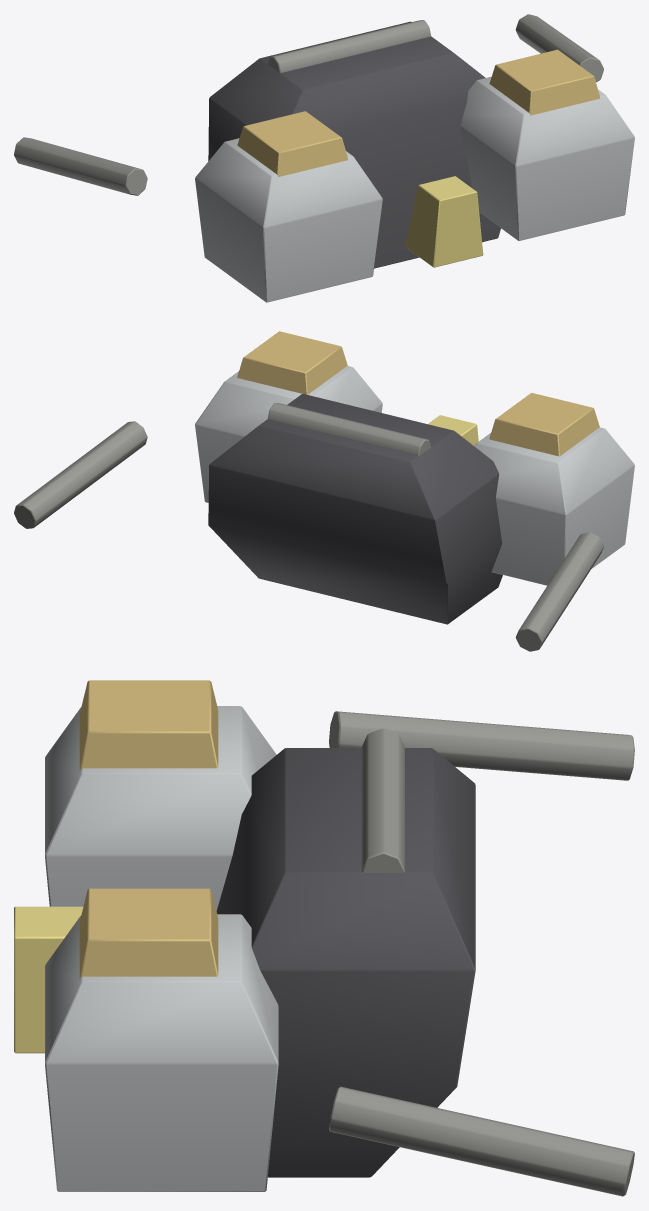
File: IT_respirator.fbx
The picture shows the model from 3 angles, top to bottom: view 1: azimuth 30°, elevation 25°; view 2: azimuth 150°, elevation 25°; view 3: azimuth 270°, elevation 25°; orthographic projection. The views are drawn at different scales.
Parts seen in each view (by area): view 1: IT_respirator; view 2: IT_respirator; view 3: IT_respirator.
Part boxes in pixels (x1,y1,x2,y2): IT_respirator: [14, 14, 634, 302]; IT_respirator: [14, 331, 634, 651]; IT_respirator: [14, 680, 634, 1196].
Size of the model in its own units: 0.8382 by 0.2775 by 0.5043.
